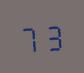seven: (19, 21, 41, 53)
three: (42, 20, 64, 51)
